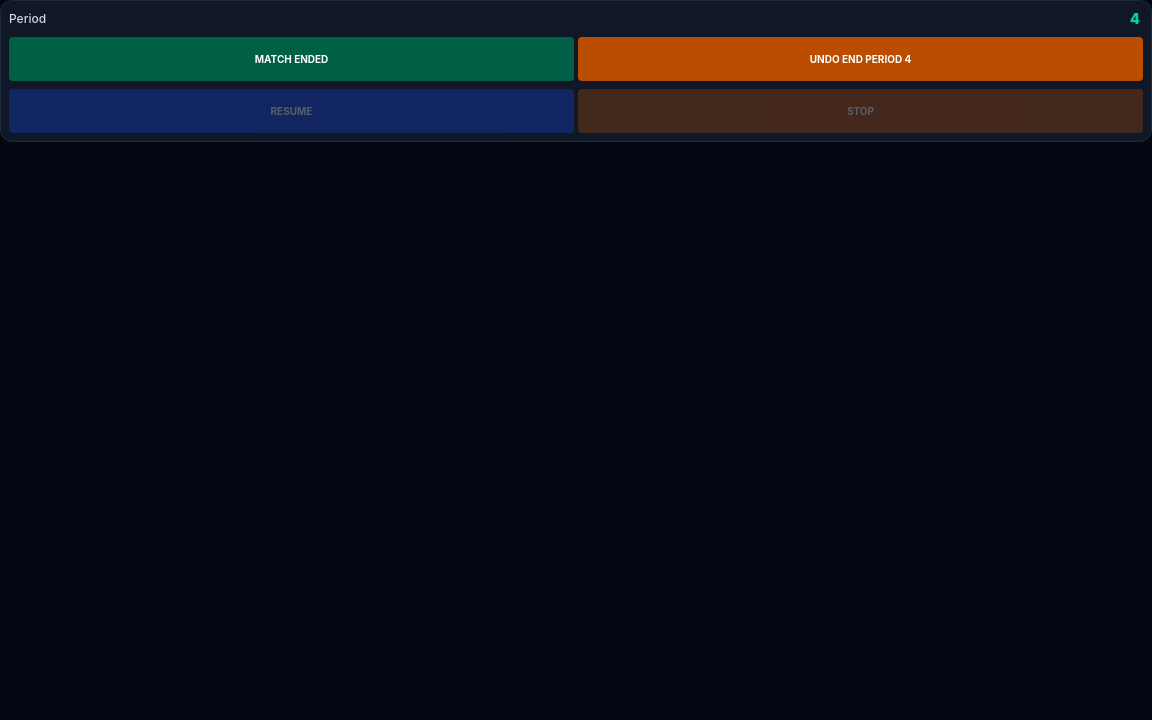
MatchLifecyclePanel Component Integration & State Machine › should open MatchResultModal when clicking MATCH ENDED button after period 4 ends
Click the button "MATCH ENDED". click: (292, 59)
box: [9,37,574,81]
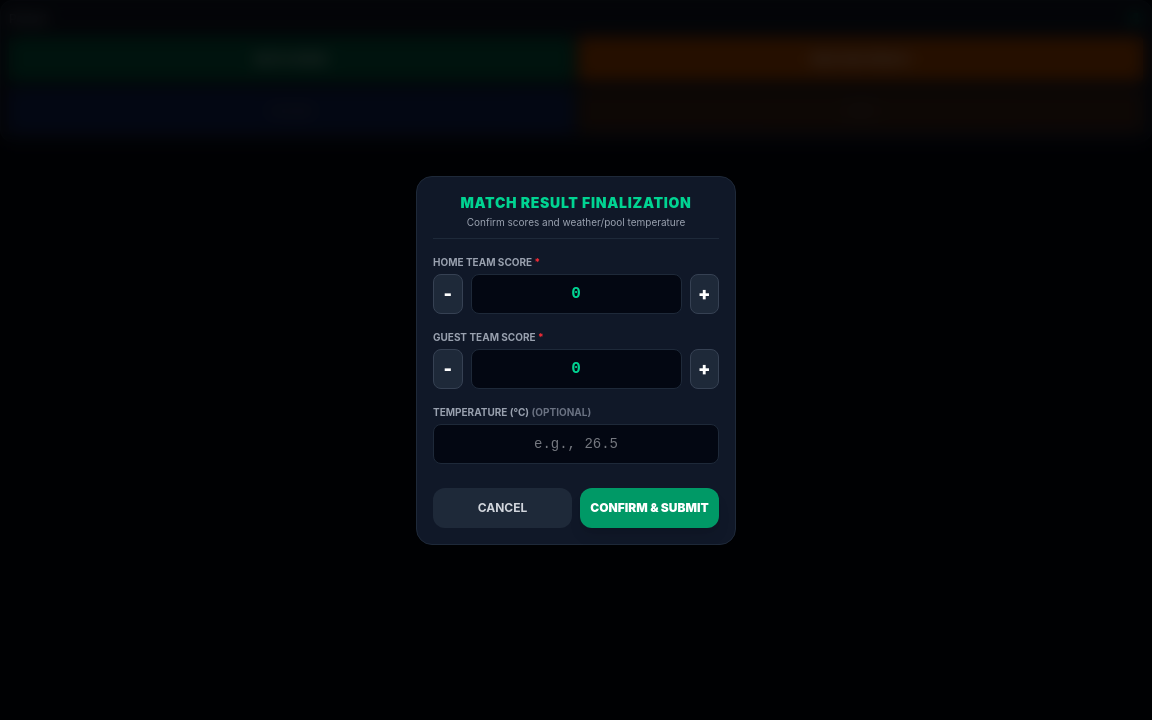
Expected: the dialog is shown
Expected: the heading "Match Result Finalization" is shown, [460,194,692,210]
